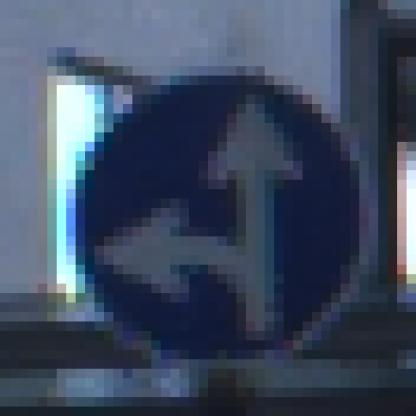Straight or Left: (58, 58, 370, 370)
